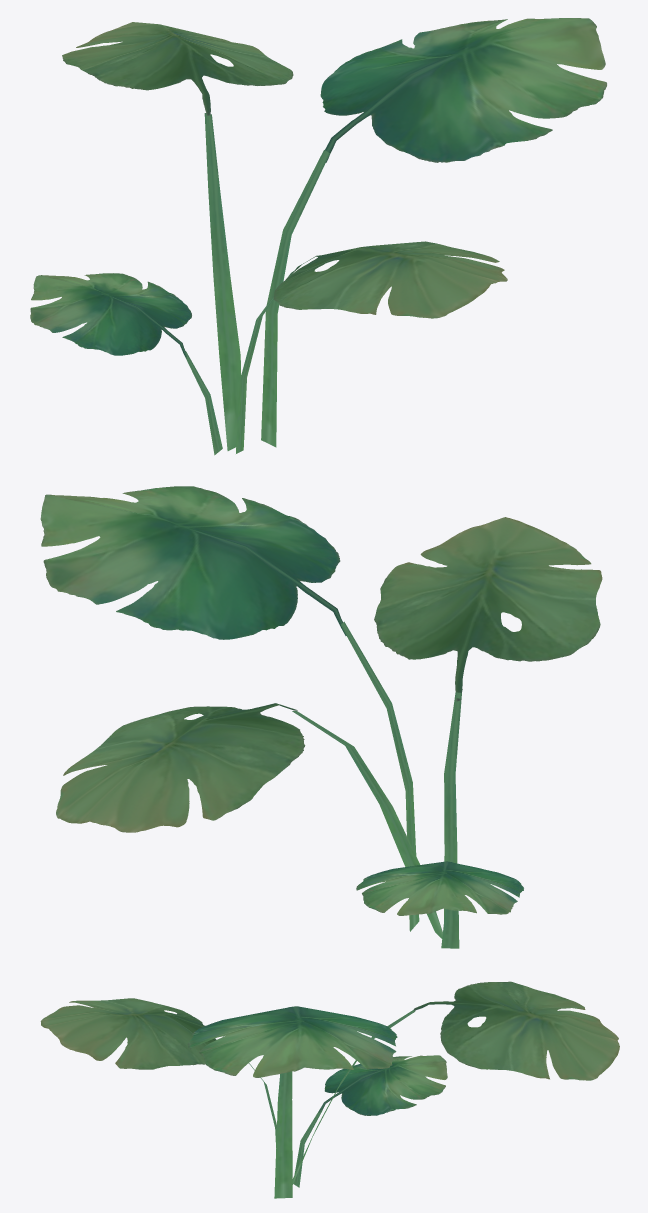
The model's file is SM_Ground_Taro_A.fbx.
3 views of the same model, one above another, from view 1: azimuth 30°, elevation 25°; view 2: azimuth 150°, elevation 25°; view 3: azimuth 270°, elevation 25° (orthographic). The views are drawn at different scales.
Parts seen in each view (by area): view 1: SM_Ground_Taro_A_LOD0; view 2: SM_Ground_Taro_A_LOD0; view 3: SM_Ground_Taro_A_LOD0.
Boxes of the visible parts, x1,y1,x2,y2 form: SM_Ground_Taro_A_LOD0: (30, 18, 606, 455); SM_Ground_Taro_A_LOD0: (40, 486, 602, 948); SM_Ground_Taro_A_LOD0: (40, 981, 619, 1198).
Size of the model in its own units: 53.2 by 72.09 by 33.56.
1 material, 1 textured.
